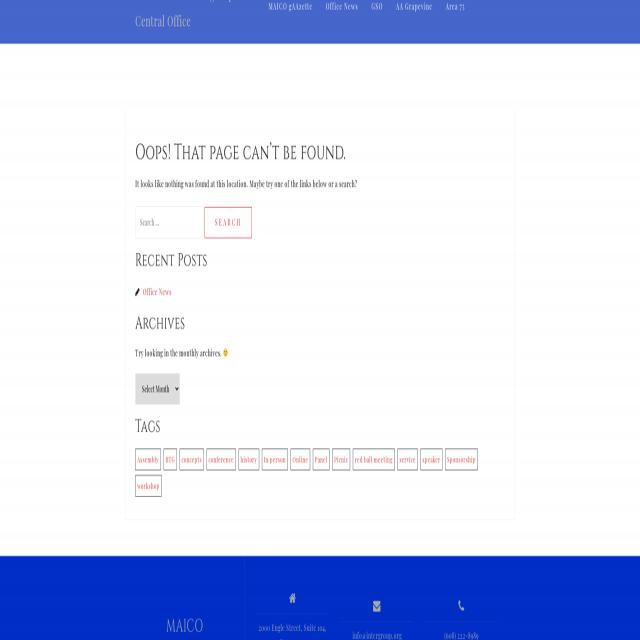button: (204, 207, 252, 238), (163, 614, 208, 638), (353, 449, 395, 470), (268, 0, 312, 16), (445, 449, 477, 470), (206, 449, 236, 470), (396, 0, 432, 16), (135, 449, 161, 470), (262, 449, 288, 470), (135, 475, 161, 496), (179, 449, 204, 470), (326, 0, 358, 16), (420, 449, 442, 470), (368, 592, 385, 619), (397, 449, 418, 470), (239, 449, 259, 470), (290, 449, 310, 470), (332, 449, 350, 470), (454, 592, 468, 619), (313, 449, 329, 470), (285, 588, 300, 610), (445, 0, 465, 16), (163, 449, 177, 470), (371, 0, 383, 16), (224, 349, 228, 357)
field: (135, 206, 203, 239), (135, 373, 180, 405)
